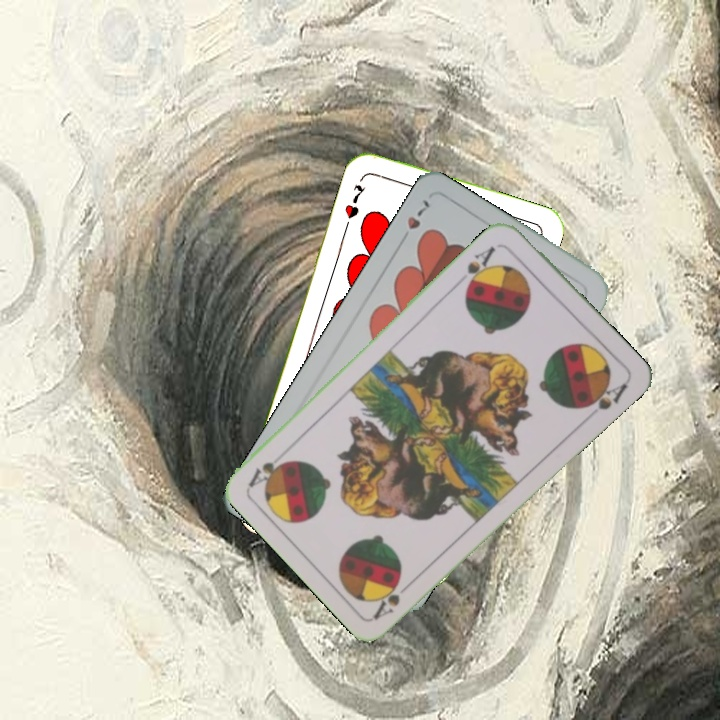H7: (396, 195, 432, 247), (340, 180, 367, 221)
SA: (370, 573, 417, 622), (462, 241, 499, 292)
